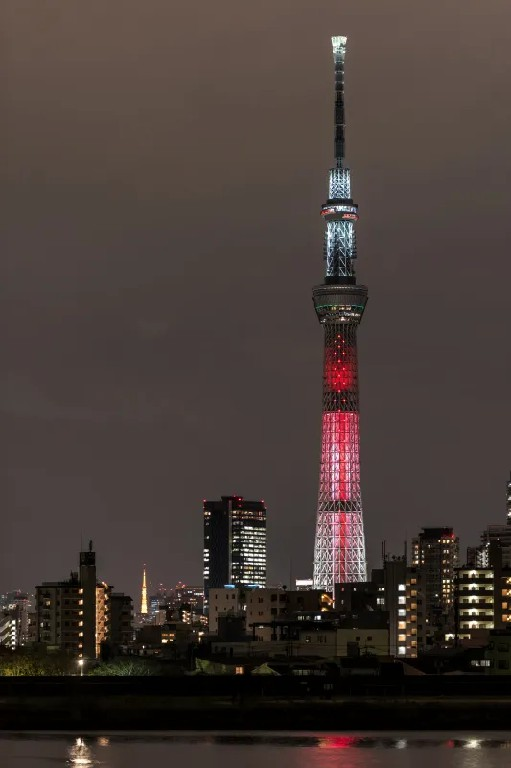Tokyo: (307, 34, 368, 582)
